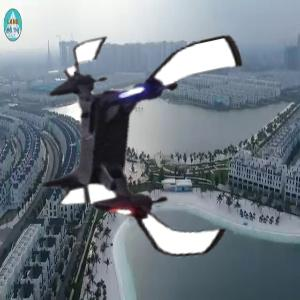drone: (25, 26, 271, 272)
